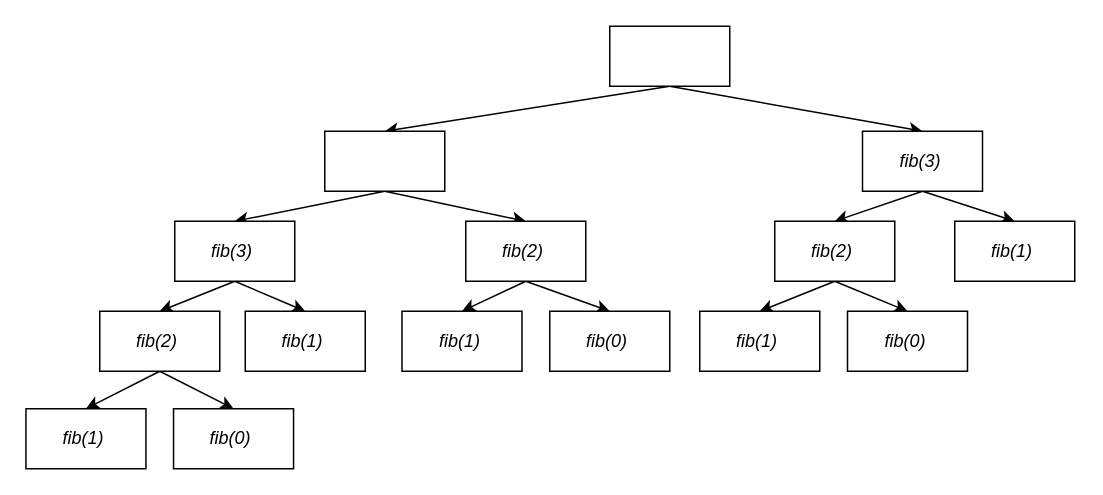
Some shapes in this 1103 by 495 pixel diagram are drawn without their labels. The box of each missing label's shape, as (x1, y1, x2, y2) in pixels:
fib(4): (323, 130, 445, 191)
fib(5): (608, 25, 730, 86)
